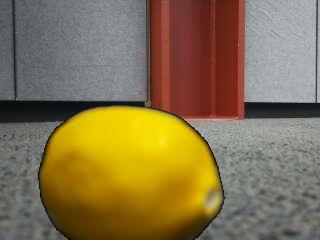lemon: (40, 107, 221, 240)
